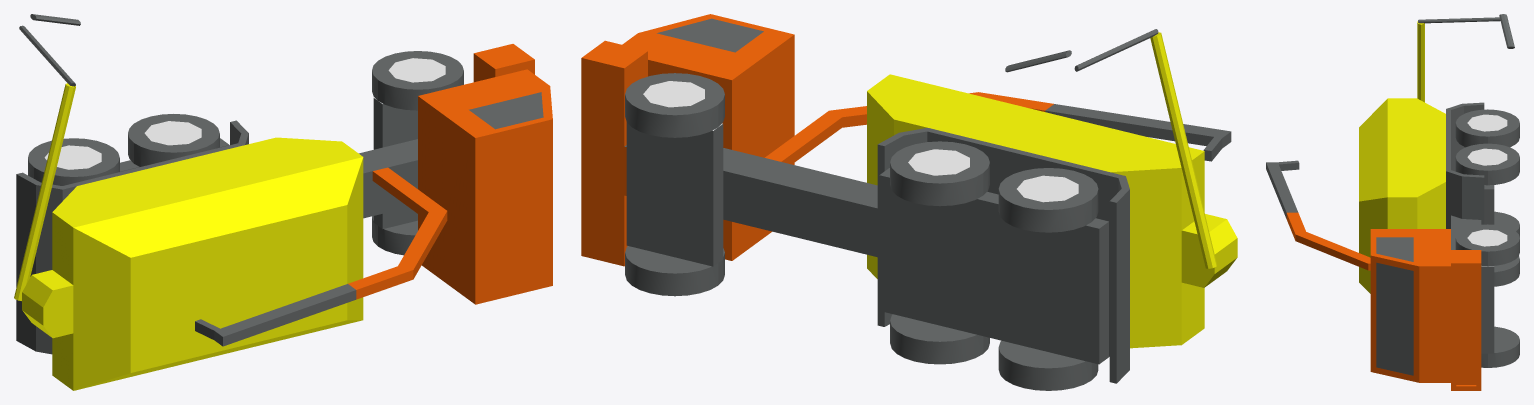
File: anfo_charger_2.dae
3 renders of one model, left to right at view 1: azimuth 30°, elevation 25°; view 2: azimuth 150°, elevation 25°; view 3: azimuth 270°, elevation 25°, orthographic. The views are drawn at different scales.
Visible parts, largest first — view 1: coords_ME_ID65_MA_material_2, coords_ME_ID59_MA_material_1, coords_ME_ID41_MA_material, coords_ME_ID27_MA_material_1, coords_ME_ID19_MA_material_0, coords_ME_ID35_MA_material, coords_ME_ID117_MA_material_0, coords_ME_ID97_MA_material_0, coords_ME_ID109_MA_material_6, coords_ME_ID53_MA_material_0, coords_ME_ID83_MA_material_5, coords_ME_ID165_MA_material_5 (+2 smaller); view 2: coords_ME_ID41_MA_material, coords_ME_ID65_MA_material_2, coords_ME_ID59_MA_material_1, coords_ME_ID97_MA_material_0, coords_ME_ID117_MA_material_0, coords_ME_ID19_MA_material_0, coords_ME_ID53_MA_material_0, coords_ME_ID91_MA_material_0, coords_ME_ID103_MA_material_0, coords_ME_ID35_MA_material, coords_ME_ID27_MA_material_1, coords_ME_ID109_MA_material_6 (+4 smaller); view 3: coords_ME_ID65_MA_material_2, coords_ME_ID59_MA_material_1, coords_ME_ID41_MA_material, coords_ME_ID177_MA_material_6, coords_ME_ID171_MA_material_1, coords_ME_ID117_MA_material_0, coords_ME_ID97_MA_material_0, coords_ME_ID19_MA_material_0, coords_ME_ID27_MA_material_1, coords_ME_ID53_MA_material_0, coords_ME_ID35_MA_material, coords_ME_ID109_MA_material_6 (+7 smaller).
Boxes of the visible parts, box(x1,y1,x2,y2) form: coords_ME_ID65_MA_material_2: box(14, 83, 363, 390); coords_ME_ID59_MA_material_1: box(418, 44, 552, 304); coords_ME_ID41_MA_material: box(16, 98, 417, 354); coords_ME_ID27_MA_material_1: box(348, 167, 447, 299); coords_ME_ID19_MA_material_0: box(372, 51, 463, 110); coords_ME_ID35_MA_material: box(195, 284, 356, 346); coords_ME_ID117_MA_material_0: box(128, 114, 219, 166); coords_ME_ID97_MA_material_0: box(28, 138, 119, 185); coords_ME_ID109_MA_material_6: box(469, 92, 543, 129); coords_ME_ID53_MA_material_0: box(372, 216, 417, 255); coords_ME_ID83_MA_material_5: box(144, 121, 201, 145); coords_ME_ID165_MA_material_5: box(388, 58, 445, 82); coords_ME_ID41_MA_material: box(625, 122, 1129, 383); coords_ME_ID65_MA_material_2: box(867, 32, 1237, 348); coords_ME_ID59_MA_material_1: box(581, 14, 794, 266); coords_ME_ID97_MA_material_0: box(998, 168, 1098, 232); coords_ME_ID117_MA_material_0: box(890, 141, 989, 206); coords_ME_ID19_MA_material_0: box(625, 73, 724, 137); coords_ME_ID53_MA_material_0: box(625, 246, 724, 296); coords_ME_ID91_MA_material_0: box(998, 340, 1098, 390); coords_ME_ID103_MA_material_0: box(890, 314, 989, 364); coords_ME_ID35_MA_material: box(1045, 104, 1231, 161); coords_ME_ID27_MA_material_1: box(765, 92, 1053, 164); coords_ME_ID109_MA_material_6: box(657, 18, 763, 52); coords_ME_ID65_MA_material_2: box(1359, 21, 1445, 293); coords_ME_ID59_MA_material_1: box(1370, 229, 1481, 390); coords_ME_ID41_MA_material: box(1446, 102, 1494, 353); coords_ME_ID177_MA_material_6: box(1376, 262, 1413, 375); coords_ME_ID171_MA_material_1: box(1456, 268, 1476, 386); coords_ME_ID117_MA_material_0: box(1455, 143, 1519, 185); coords_ME_ID97_MA_material_0: box(1455, 109, 1519, 147); coords_ME_ID19_MA_material_0: box(1455, 224, 1519, 265); coords_ME_ID27_MA_material_1: box(1286, 212, 1370, 270); coords_ME_ID53_MA_material_0: box(1481, 326, 1519, 367); coords_ME_ID35_MA_material: box(1266, 160, 1299, 218); coords_ME_ID109_MA_material_6: box(1376, 237, 1413, 261).
Size of the model in its own units: 92.54 by 51.12 by 53.75.
